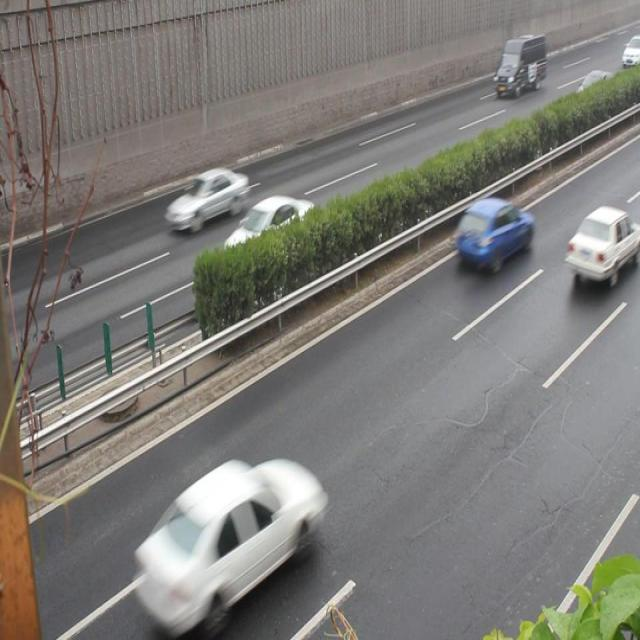car: (136, 459, 322, 614), (220, 196, 318, 266), (454, 196, 535, 271), (564, 205, 640, 283), (165, 167, 248, 235)
truck: (492, 33, 546, 97)
